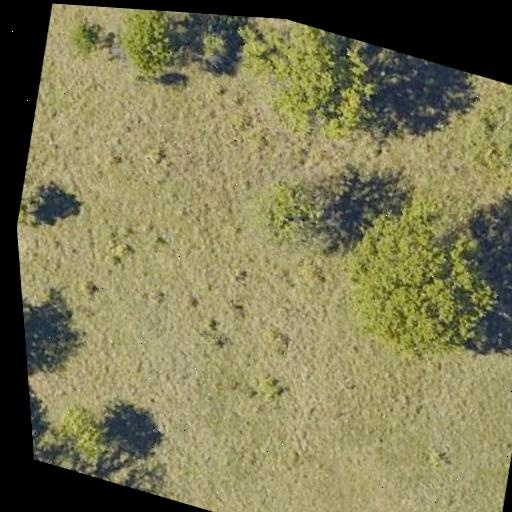tree-top: (320, 184, 512, 379), (227, 15, 410, 156), (258, 161, 356, 261), (104, 7, 192, 81), (49, 392, 129, 473), (186, 13, 244, 75), (64, 13, 110, 62), (13, 182, 48, 237), (31, 413, 52, 463)
